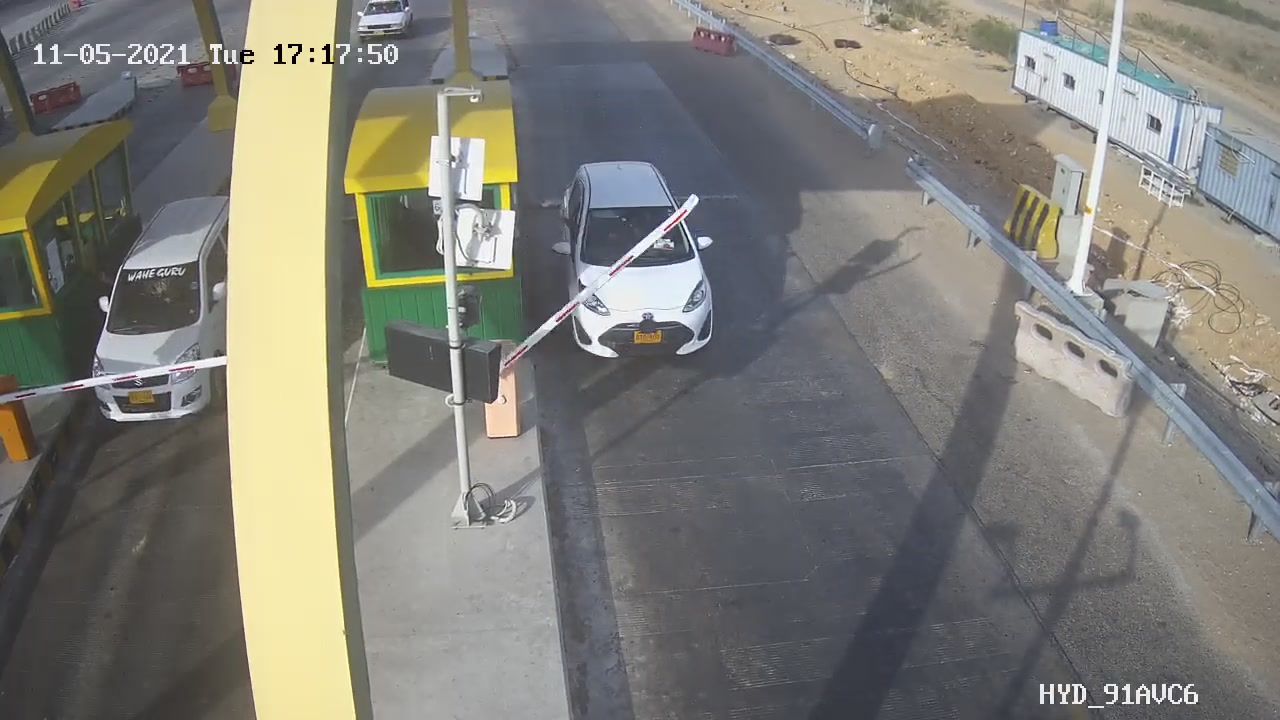F1: (534, 148, 743, 379)
